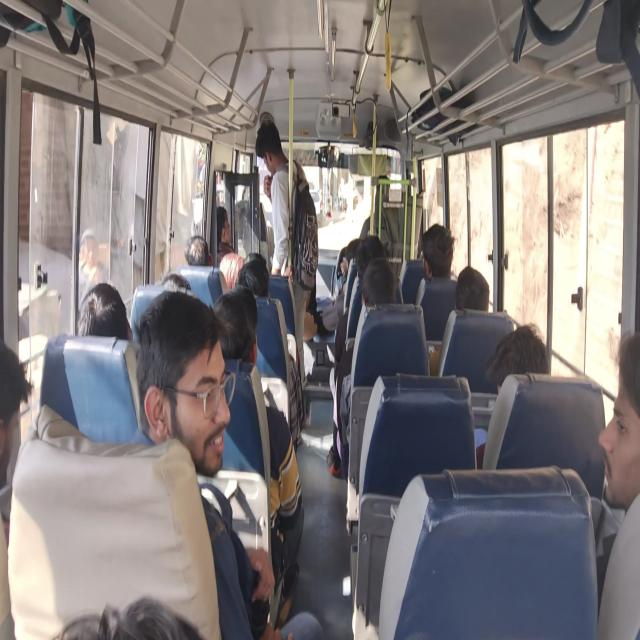person: (132, 288, 232, 480), (255, 131, 318, 282), (332, 237, 388, 385), (599, 332, 638, 526), (431, 266, 491, 377), (0, 333, 31, 523), (110, 596, 205, 640), (212, 285, 258, 366), (76, 282, 132, 342), (498, 324, 552, 384), (361, 255, 397, 310), (420, 222, 454, 280), (454, 264, 490, 311), (216, 204, 240, 270), (336, 238, 360, 302), (54, 612, 107, 640), (354, 234, 386, 280), (238, 252, 270, 298), (184, 235, 211, 267), (159, 272, 192, 294), (216, 206, 228, 242)
